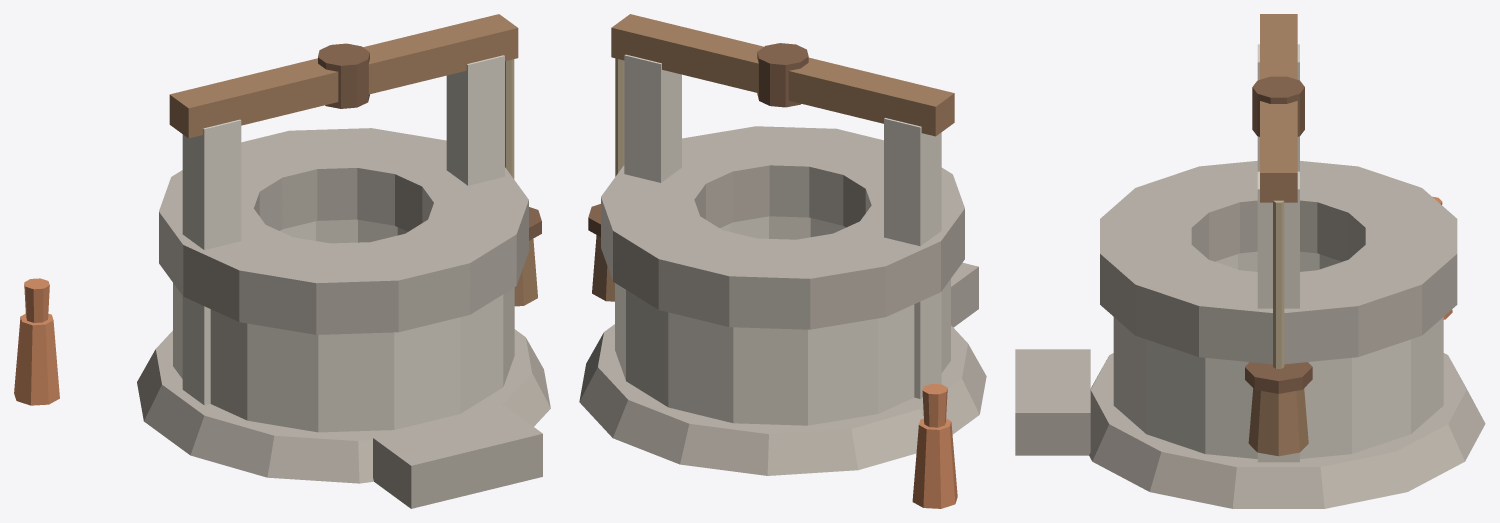
Rendered from well.glb.
The picture shows the model from 3 angles, left to right: view 1: azimuth 30°, elevation 25°; view 2: azimuth 150°, elevation 25°; view 3: azimuth 270°, elevation 25°; orthographic projection.
Visible parts, largest first — view 1: lip, course, base, beam, step, post, post.001, amphora, pulley, rope, amphora_neck, bucket; view 2: lip, course, base, beam, post, post.001, amphora, pulley, step, rope, amphora_neck, bucket; view 3: lip, course, base, step, beam, post.001, bucket, rope, pulley, bucket_rim.
Boxes of the visible parts, x1,y1,x2,y2 form: lip: (159,128,528,334); course: (173,219,514,432); base: (137,329,550,483); beam: (169,14,518,138); step: (373,406,542,508); post: (182,119,241,405); post.001: (446,55,504,185); amphora: (14,313,59,405); pulley: (318,43,369,108); rope: (505,59,514,179); amphora_neck: (24,278,49,322); bucket: (514,239,537,306); lip: (601,126,964,329); course: (615,216,950,425); base: (579,324,986,475); beam: (611,14,954,136); post: (884,118,941,398); post.001: (624,54,681,182); amphora: (912,418,957,508); pulley: (757,43,808,107); step: (951,262,978,327); rope: (615,58,624,176); amphora_neck: (922,383,947,427); bucket: (592,235,614,301); lip: (1100,160,1457,364); course: (1113,251,1443,458); base: (1089,353,1485,508); step: (1015,349,1090,455); beam: (1260,14,1297,202); post.001: (1257,171,1299,462); bucket: (1248,388,1308,456); rope: (1273,200,1284,368); pulley: (1252,76,1304,136); bucket_rim: (1245,362,1312,393).
Size of the model in its own units: 0.541 by 0.395 by 0.5.
